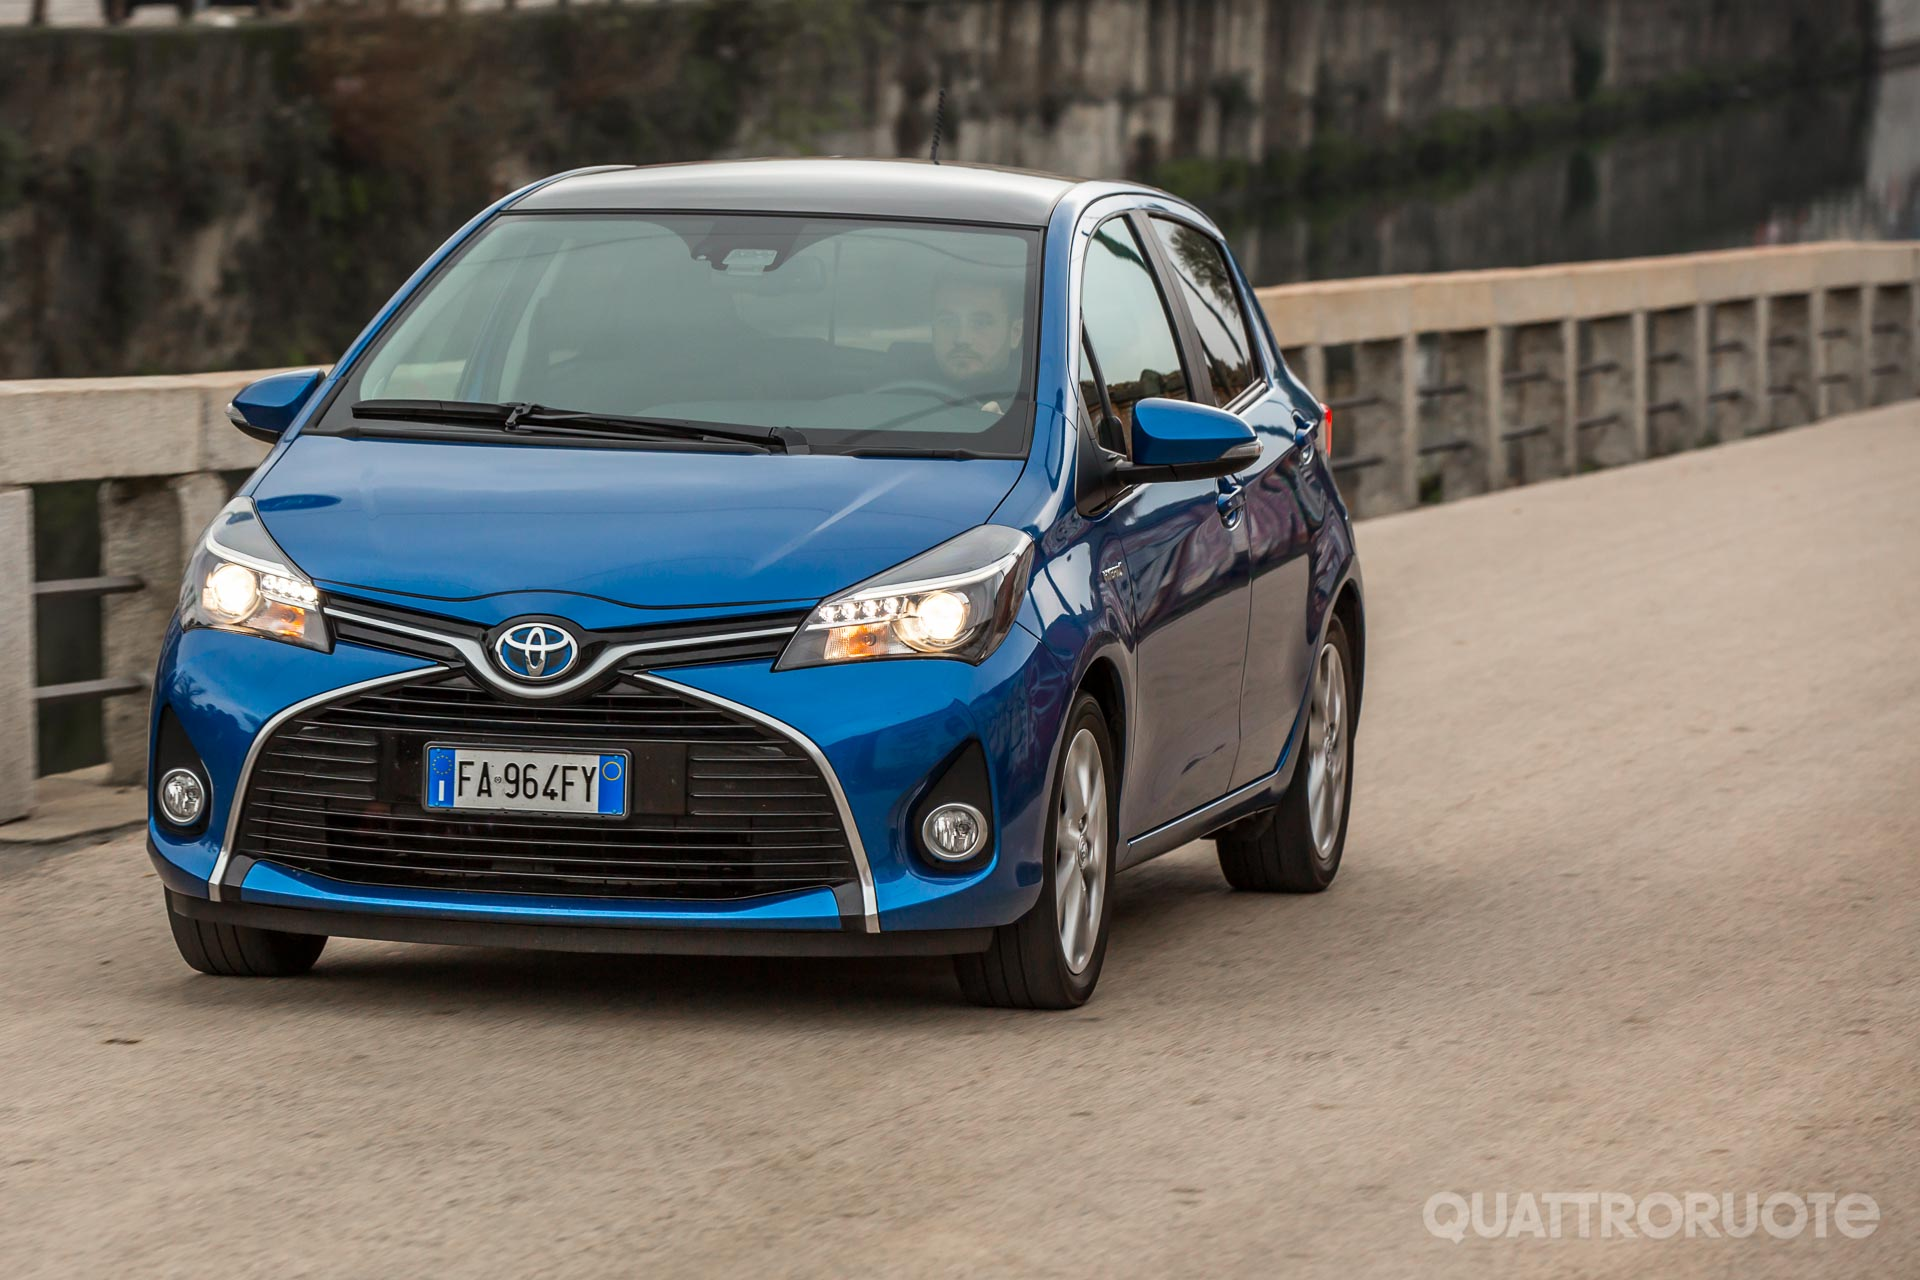car: (150, 164, 1364, 1010)
